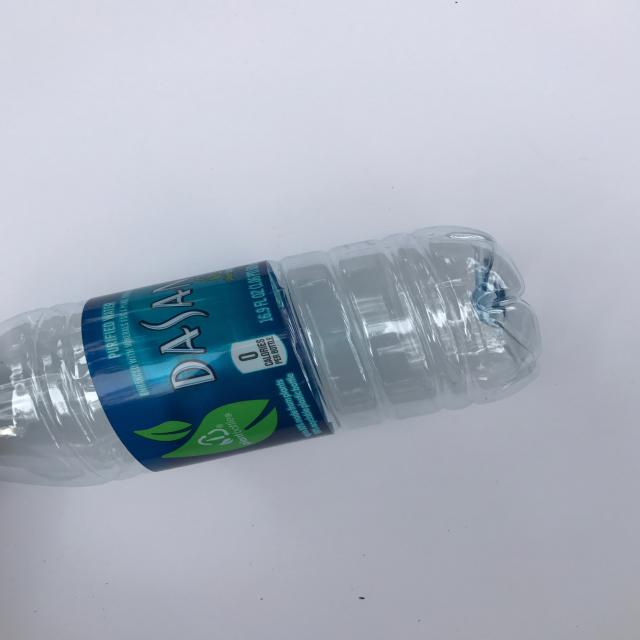plastic: (0, 224, 542, 488)
